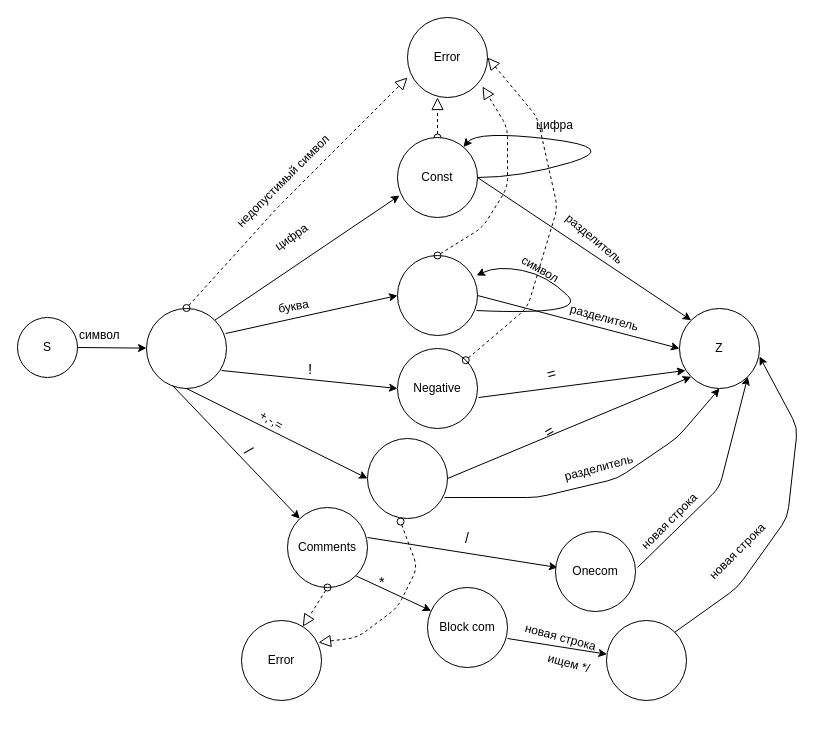
This 823x729 diagram has some shape labels left out. The shapes that lost their labels are listed below. From the top down, each one's box as (x1, y1, x2, y2) in pixels, then its label:
(396, 254, 478, 336): Identifier key_word
(146, 308, 226, 388): Available
(366, 438, 448, 518): Operations
(606, 620, 686, 700): Block end
